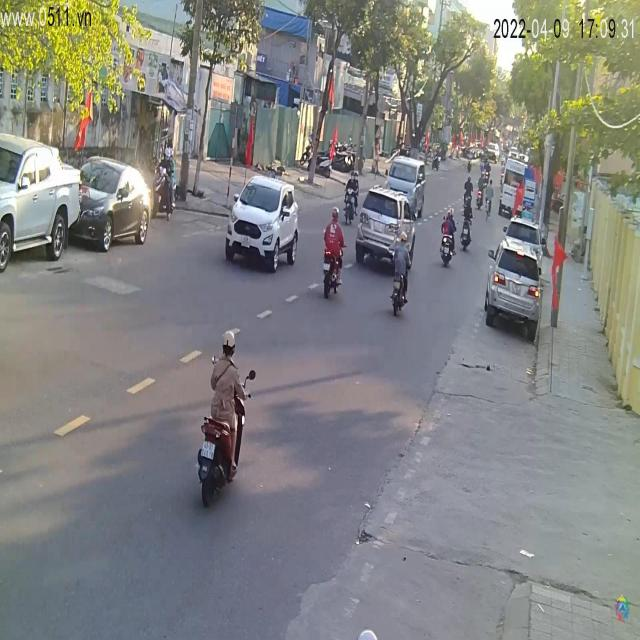car: (1, 130, 83, 278), (72, 158, 156, 254), (225, 175, 302, 274), (487, 236, 543, 339), (357, 187, 418, 270), (385, 156, 426, 220)
motorcycle: (197, 417, 239, 504), (388, 251, 411, 319), (324, 254, 344, 299), (439, 235, 455, 266)
